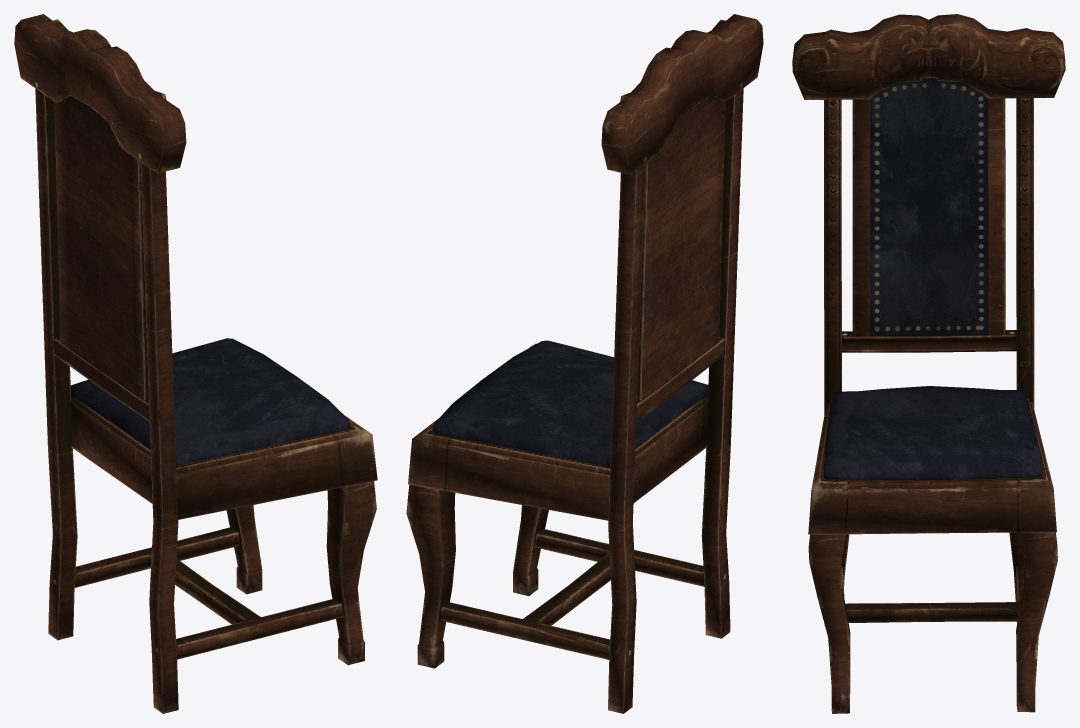
File: cadeira.obj
The picture shows the model from 3 angles, left to right: view 1: azimuth 30°, elevation 25°; view 2: azimuth 150°, elevation 25°; view 3: azimuth 270°, elevation 25°; orthographic projection. The views are drawn at different scales.
Parts seen in each view (by area): view 1: Material-material.013, Material-material.018, Material-material, Material-material.024, Material-material.007, Material-material.020, Material-material.005, Material-material.022, Material-material.012, Material-material.028, Material-material.002, Material-material.017 (+10 smaller); view 2: Material-material.013, Material-material.018, Material-material, Material-material.007, Material-material.024, Material-material.003, Material-material.022, Material-material.005, Material-material.028, Material-material.012, Material-material.017, Material-material.002 (+10 smaller); view 3: Material-material.014, Material-material, Material-material.018, Material-material.009, Material-material.025, Material-material.017, Material-material.007, Material-material.024, Material-material.003, Material-material.020, Material-material.011, Material-material.015 (+4 smaller).
Part boxes in pixels (<box>): Material-material.013: <box>54,96,144,401</box>; Material-material.018: <box>84,339,333,449</box>; Material-material: <box>176,416,377,519</box>; Material-material.024: <box>140,162,178,528</box>; Material-material.007: <box>35,88,72,454</box>; Material-material.020: <box>326,481,376,665</box>; Material-material.005: <box>48,448,77,640</box>; Material-material.022: <box>149,522,178,713</box>; Material-material.012: <box>14,20,88,105</box>; Material-material.028: <box>89,52,163,173</box>; Material-material.002: <box>71,397,152,503</box>; Material-material.017: <box>70,338,348,466</box>; Material-material.013: <box>641,97,725,401</box>; Material-material.018: <box>449,342,694,450</box>; Material-material: <box>408,343,610,520</box>; Material-material.007: <box>608,163,645,528</box>; Material-material.024: <box>706,88,743,453</box>; Material-material.003: <box>406,484,455,668</box>; Material-material.022: <box>701,447,730,638</box>; Material-material.005: <box>608,522,636,713</box>; Material-material.028: <box>694,19,763,106</box>; Material-material.012: <box>624,53,693,174</box>; Material-material.017: <box>434,340,708,467</box>; Material-material.002: <box>633,396,707,502</box>; Material-material.014: <box>852,80,1005,336</box>; Material-material: <box>808,399,1056,534</box>; Material-material.018: <box>833,386,1031,461</box>; Material-material.009: <box>929,24,1065,98</box>; Material-material.025: <box>793,25,929,99</box>; Material-material.017: <box>823,390,1042,480</box>; Material-material.007: <box>1016,98,1034,408</box>; Material-material.024: <box>824,99,841,414</box>; Material-material.003: <box>1016,532,1057,712</box>; Material-material.020: <box>808,534,850,713</box>; Material-material.011: <box>845,602,1017,622</box>; Material-material.015: <box>842,330,1016,352</box>.
Bounding box in the file's own units: 0.8698 × 2.29 × 0.9532.
Materials: 1 (1 with a texture image).
